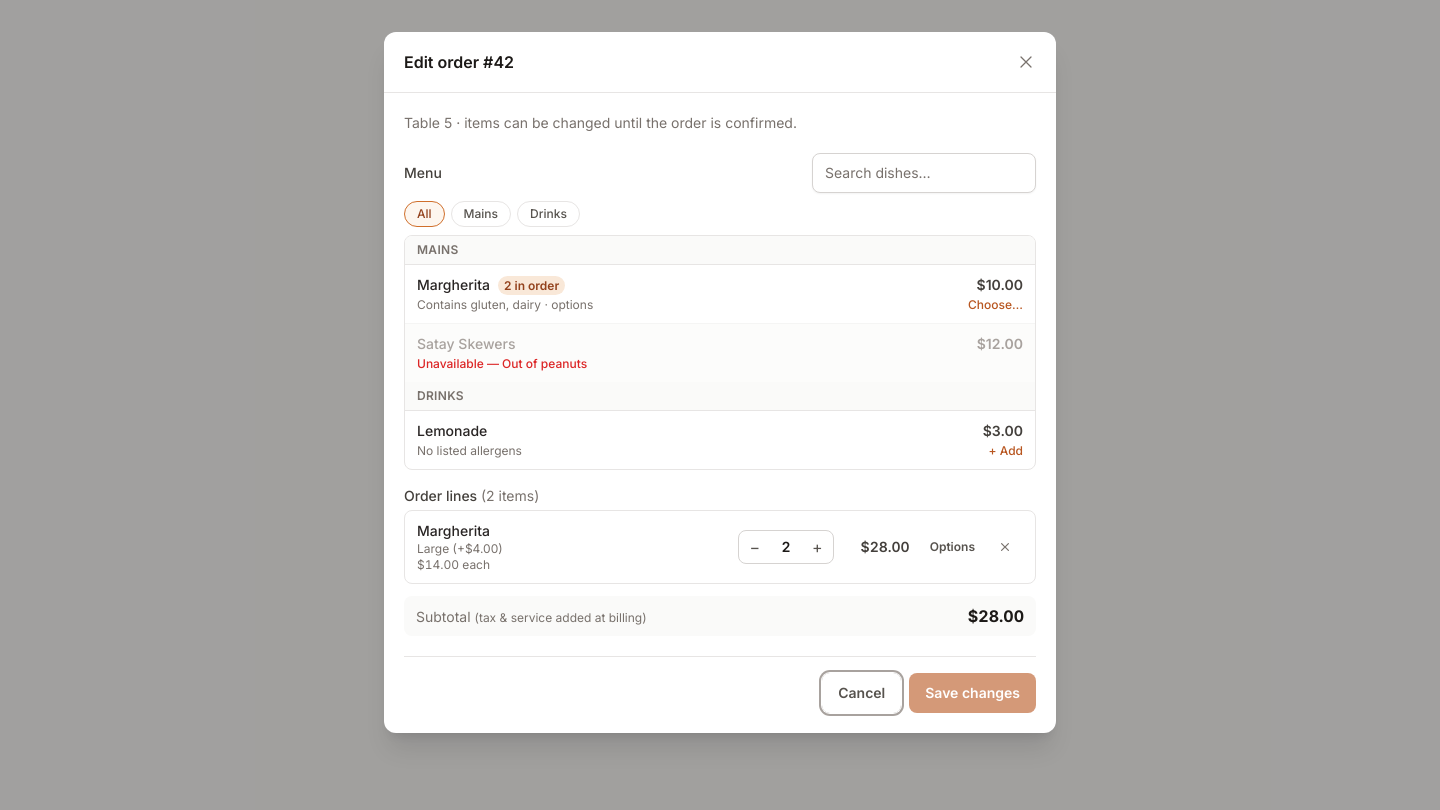
EditItemsModal › refuses to save an order with no items left
Click the button named "Remove Margherita" at coordinates (1005, 547), box x1=987 y1=529 x2=1023 y2=565
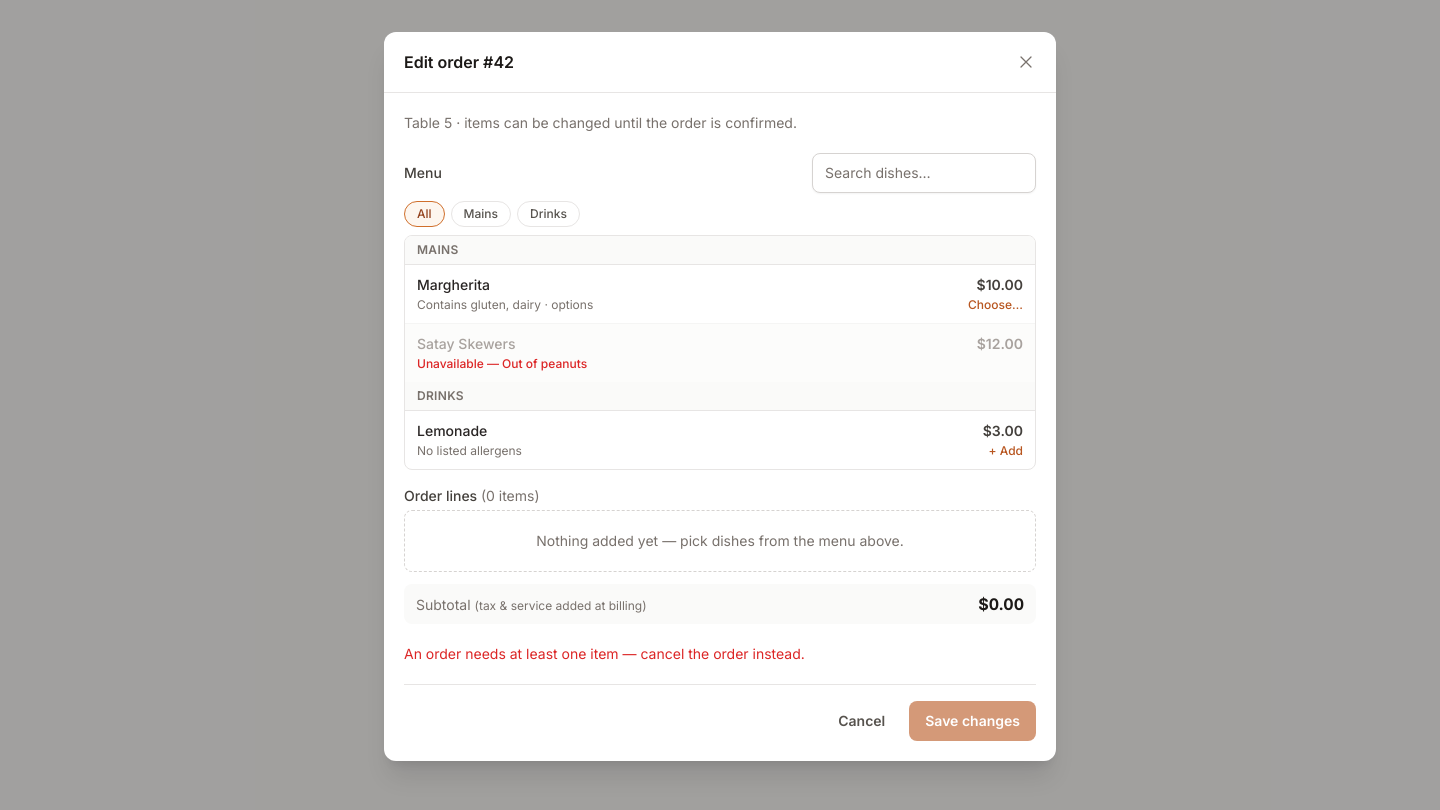
expect the button "Save changes" is disabled: met, box x1=909 y1=701 x2=1036 y2=741
expect the text "An order needs at least one item — cancel the order instead." is shown: met, box x1=404 y1=645 x2=805 y2=662
